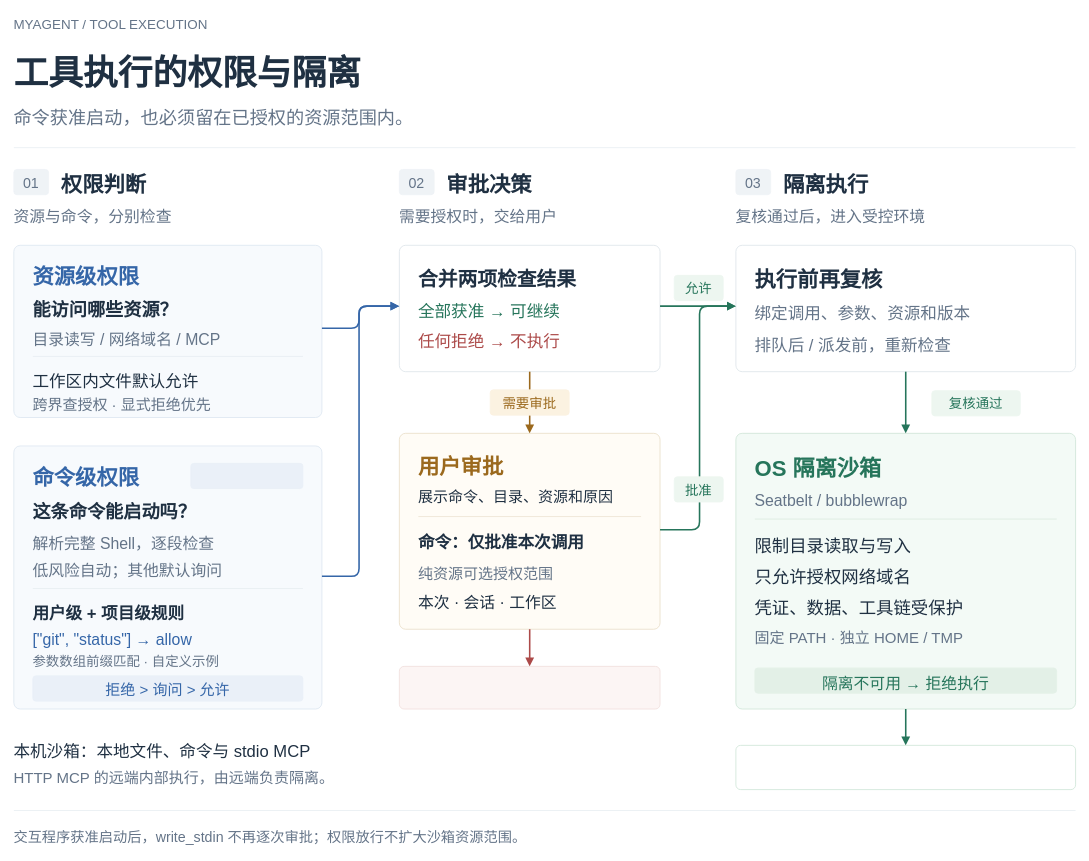
Some shapes in this 1089 by 861 pixel diagram are drawn without their labels. Each missing label, with the centre of its shape:
"exec_command" goes at (246,476).
"受控执行 → 结果反馈给模型" goes at (905,767).
"拒绝 / 过期 → 不执行" goes at (529,687).
